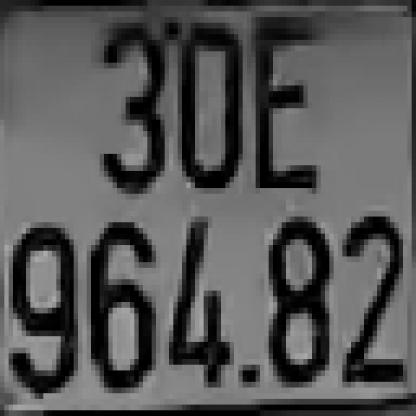0: (178, 23, 238, 188)
2: (338, 217, 399, 376)
3: (100, 23, 164, 194)
4: (169, 216, 225, 382)
6: (91, 216, 156, 388)
8: (264, 216, 325, 382)
9: (9, 222, 78, 393)
E: (251, 23, 312, 188)
